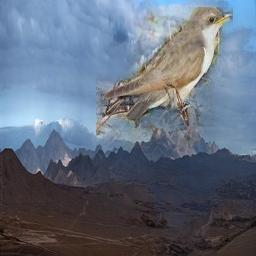Cuckoo: (96, 7, 233, 148)
